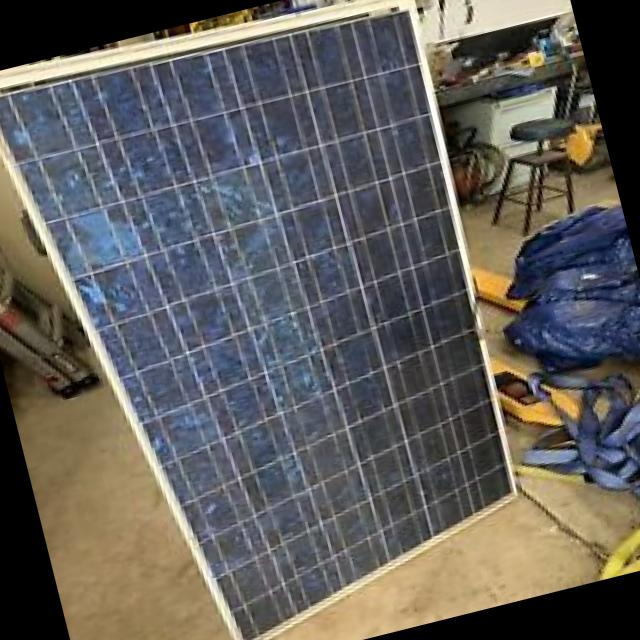faulty: (0, 9, 519, 640)
